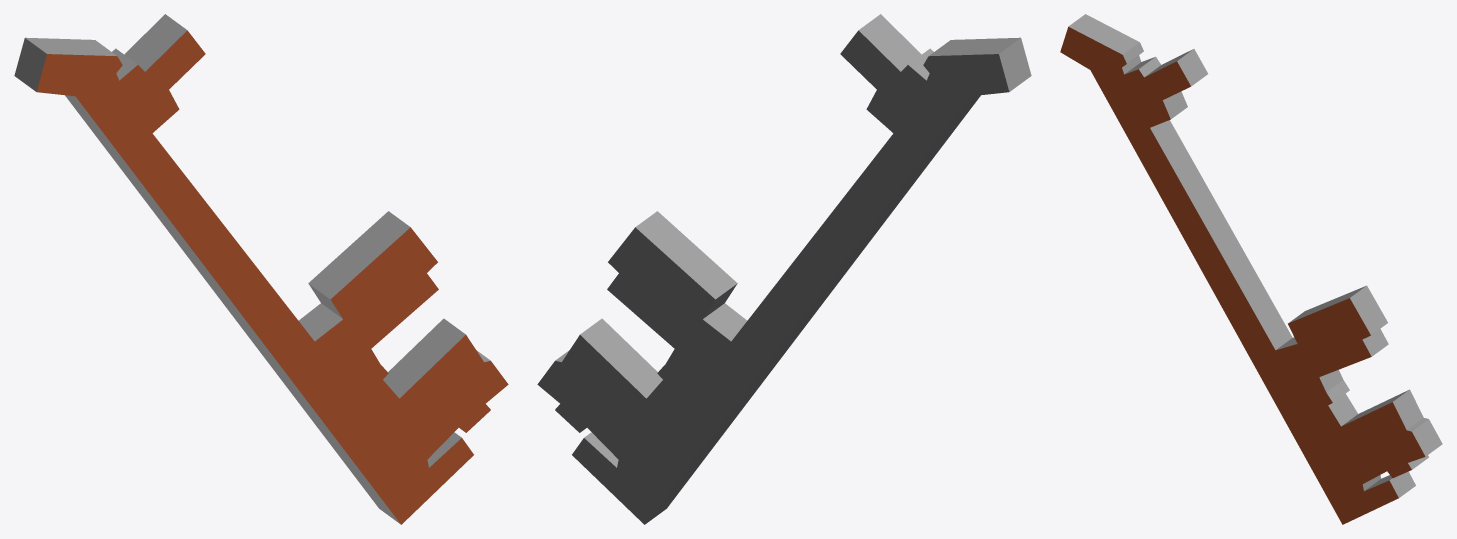
File: construction_5994_assumed_A_Casa_h6m.obj
3 renders of one model, left to right at view 1: azimuth 30°, elevation 25°; view 2: azimuth 150°, elevation 25°; view 3: azimuth 330°, elevation 25°, orthographic. The views are drawn at different scales.
Parts seen in each view (by area): view 1: construction_5994_assumed_A_Casa; view 2: construction_5994_assumed_A_Casa; view 3: construction_5994_assumed_A_Casa.
Boxes of the visible parts, left/top/right/bottom form: construction_5994_assumed_A_Casa: left=14, top=14, right=508, bottom=524; construction_5994_assumed_A_Casa: left=537, top=14, right=1031, bottom=524; construction_5994_assumed_A_Casa: left=1060, top=14, right=1442, bottom=524.
Bounding box in the file's own units: 73.62 × 83.07 × 6.
